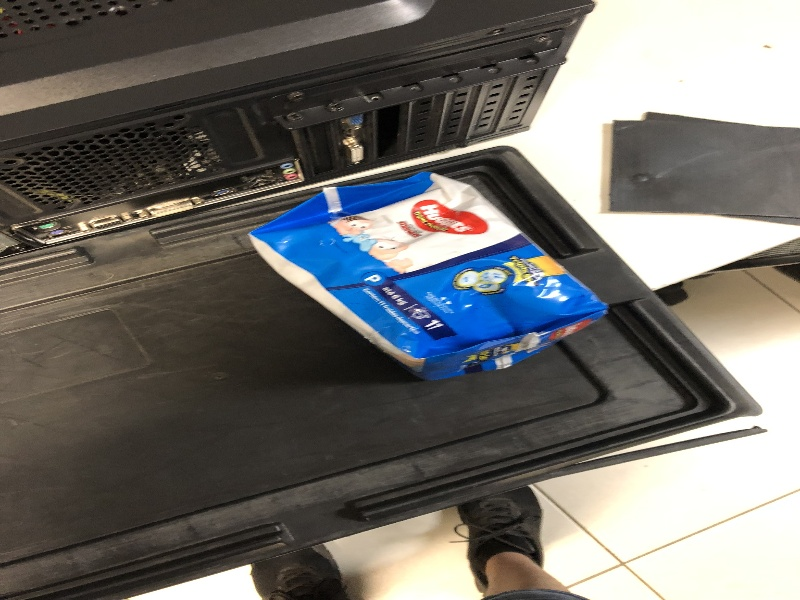fralda: (245, 196, 607, 368)
